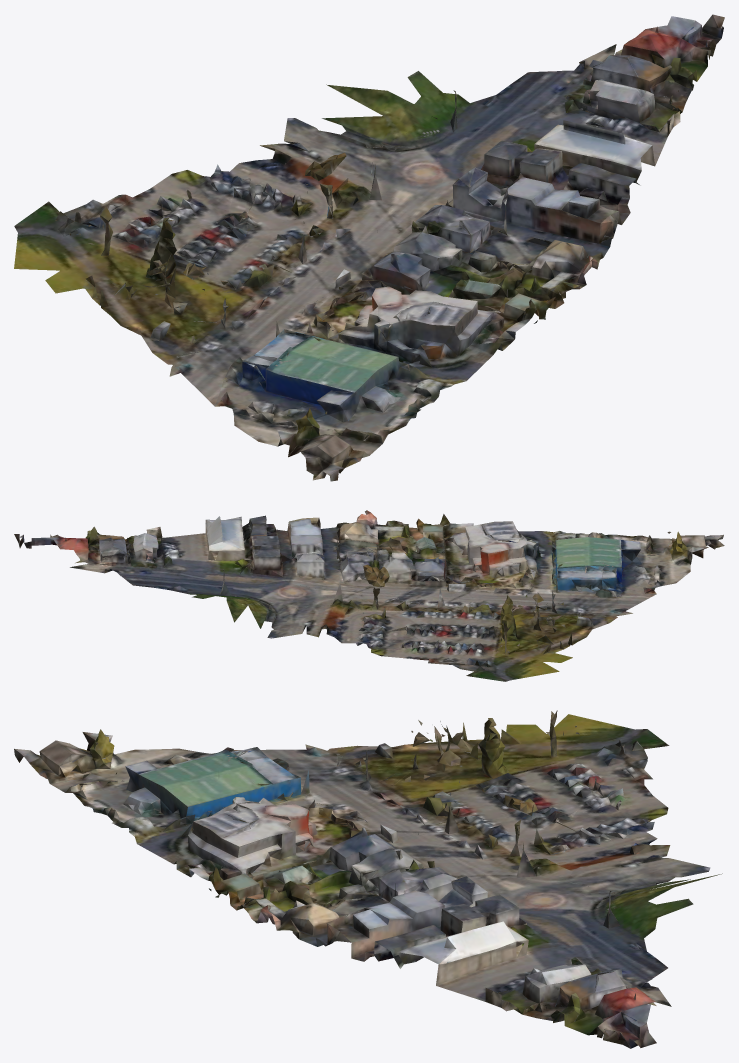
Rendered from Tile_013_002_L17.gltf.
The picture shows the model from 3 angles, top to bottom: view 1: azimuth 30°, elevation 25°; view 2: azimuth 150°, elevation 25°; view 3: azimuth 270°, elevation 25°; orthographic projection. The views are drawn at different scales.
Parts seen in each view (by area): view 1: Tile_+013_+002_L17; view 2: Tile_+013_+002_L17; view 3: Tile_+013_+002_L17.
Part boxes in pixels (x1,y1,x2,y2): Tile_+013_+002_L17: [14, 14, 724, 481]; Tile_+013_+002_L17: [14, 510, 724, 681]; Tile_+013_+002_L17: [14, 710, 722, 1048].
Bounding box in the file's own units: 212 × 22.81 × 174.
Materials: 1 (1 with a texture image).
